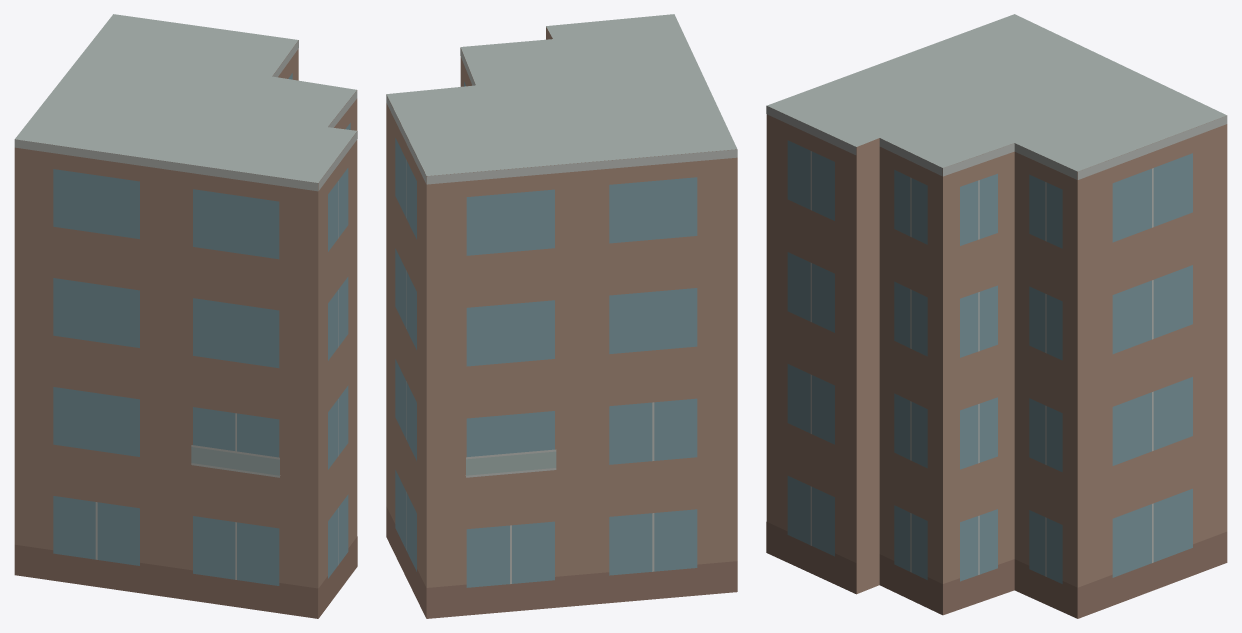
File: survey-upis-32518297.glb
The picture shows the model from 3 angles, left to right: view 1: azimuth 30°, elevation 25°; view 2: azimuth 150°, elevation 25°; view 3: azimuth 270°, elevation 25°; orthographic projection. The views are drawn at different scales.
Visible parts, largest first — view 1: survey-upis-32518297.tmp; view 2: survey-upis-32518297.tmp; view 3: survey-upis-32518297.tmp.
Part boxes in pixels (left/top/right/bottom): survey-upis-32518297.tmp: left=14, top=14, right=357, bottom=618; survey-upis-32518297.tmp: left=386, top=14, right=737, bottom=618; survey-upis-32518297.tmp: left=766, top=14, right=1227, bottom=618.
Size of the model in its own units: 9.69 by 12.8 by 11.96.
